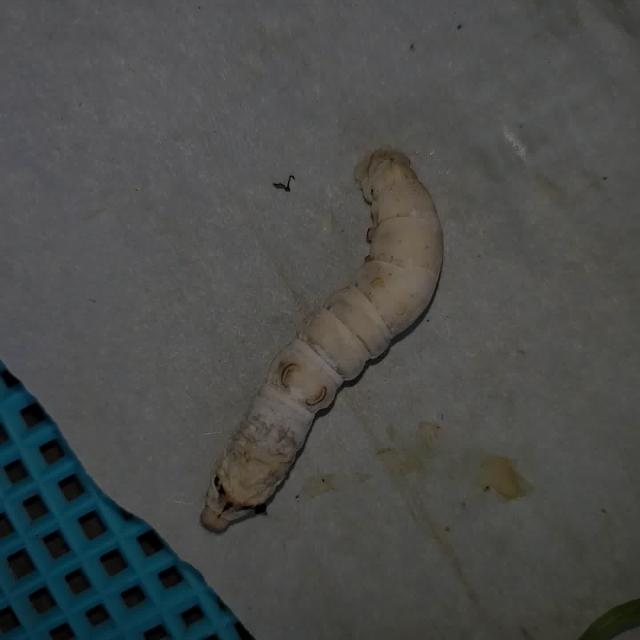Grasserie: (174, 125, 465, 566)
